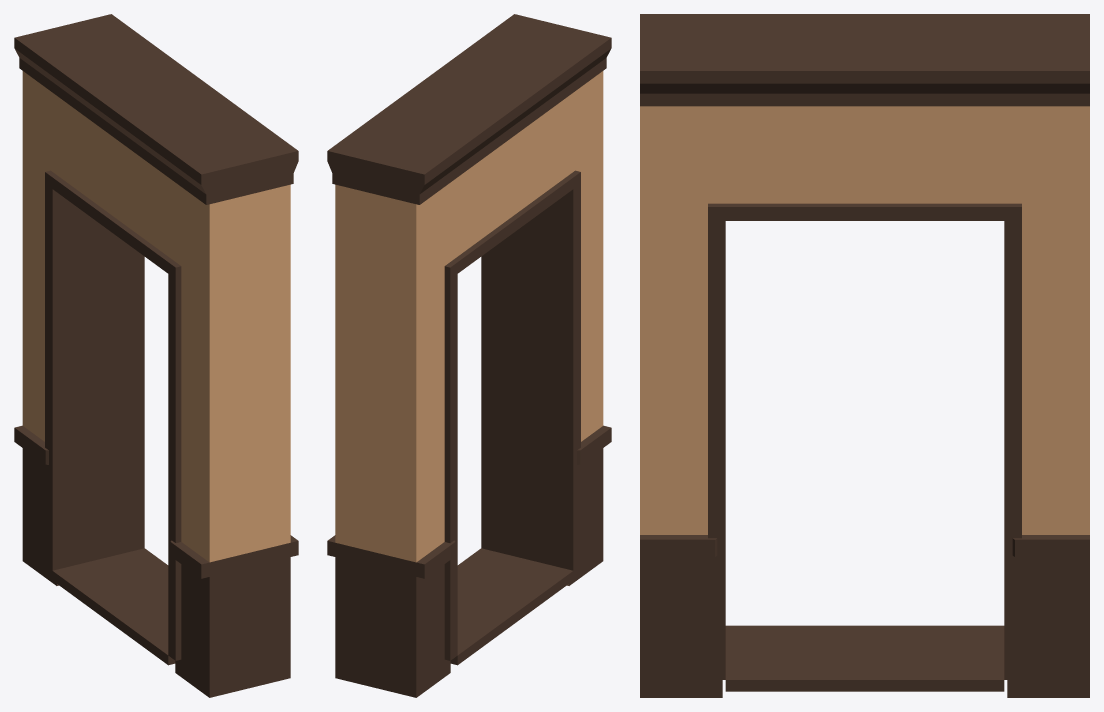
File: S_WallDoor.fbx
The picture shows the model from 3 angles, left to right: view 1: azimuth 30°, elevation 25°; view 2: azimuth 150°, elevation 25°; view 3: azimuth 270°, elevation 25°; orthographic projection. The views are drawn at different scales.
Parts seen in each view (by area): view 1: S_WallDoor; view 2: S_WallDoor; view 3: S_WallDoor.
Boxes of the visible parts, box(x1,y1,x2,y2) form: S_WallDoor: box(14, 14, 298, 697); S_WallDoor: box(327, 14, 611, 697); S_WallDoor: box(640, 14, 1089, 697).
Size of the model in its own units: 59.94 by 310 by 200.
